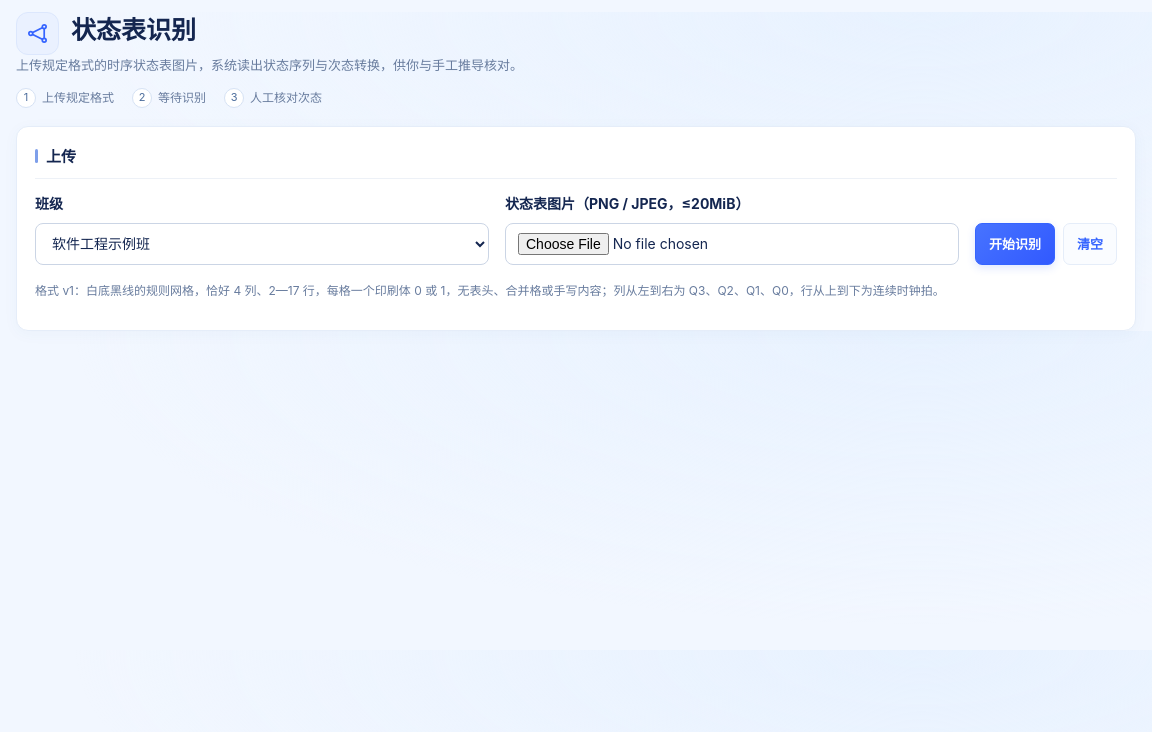
Test: StudentRecognitionView › 未选文件时给出提示且不发请求
The image size is (1152, 732).
Click the button with class "button--primary" at (1015, 244), box [975, 223, 1055, 265]
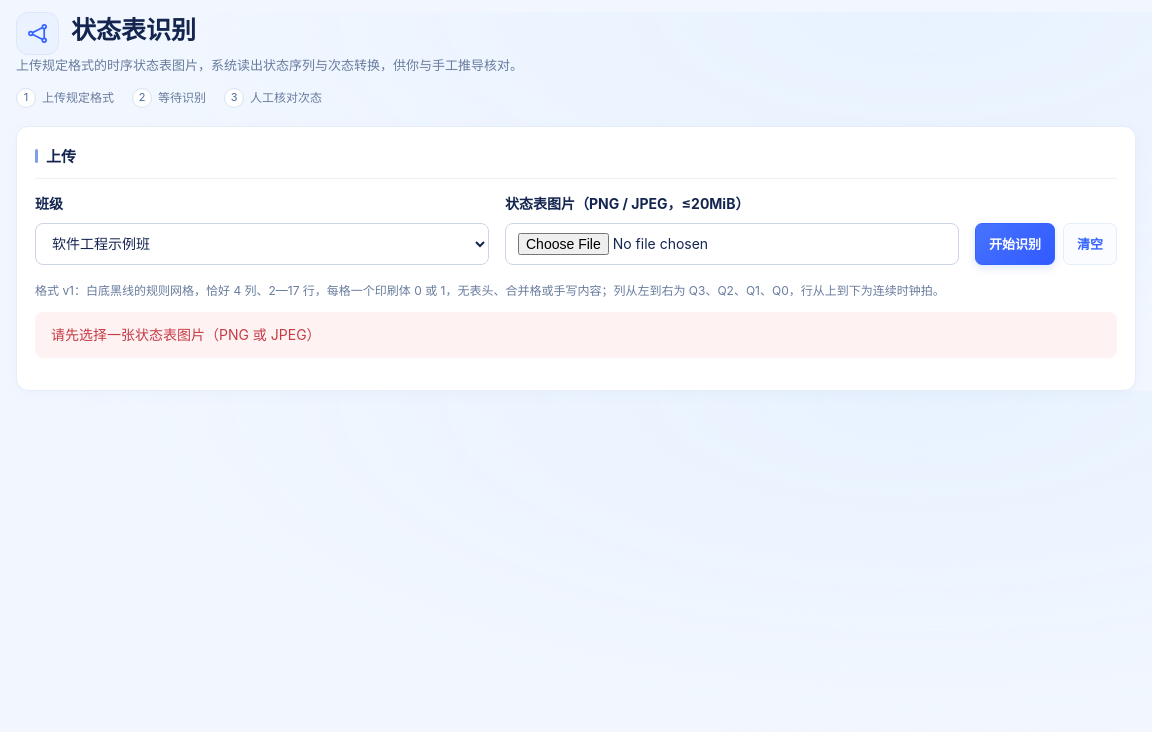
Check: the text "请先选择一张状态表图片" is shown, box [51, 326, 321, 343]
